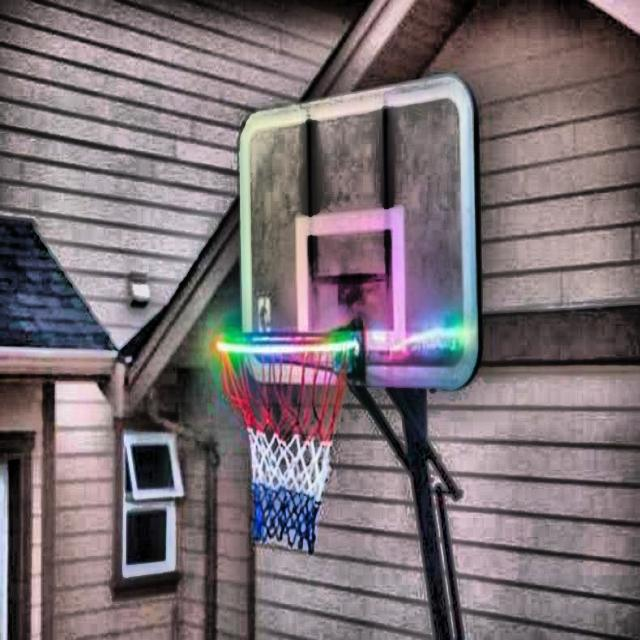rim: (217, 336, 348, 551)
